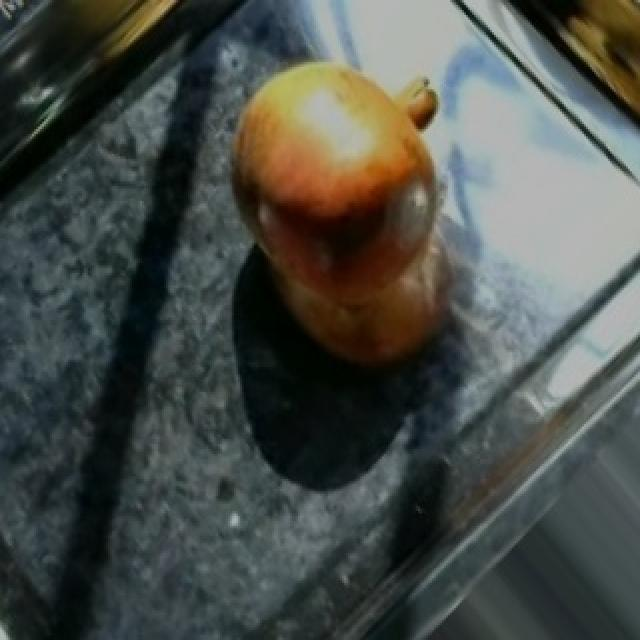fruit: (202, 30, 466, 310), (528, 0, 640, 131)
